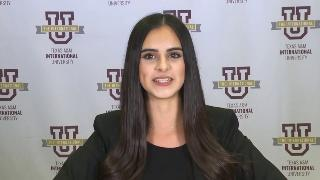person - v3 P: (54, 14, 286, 179)
